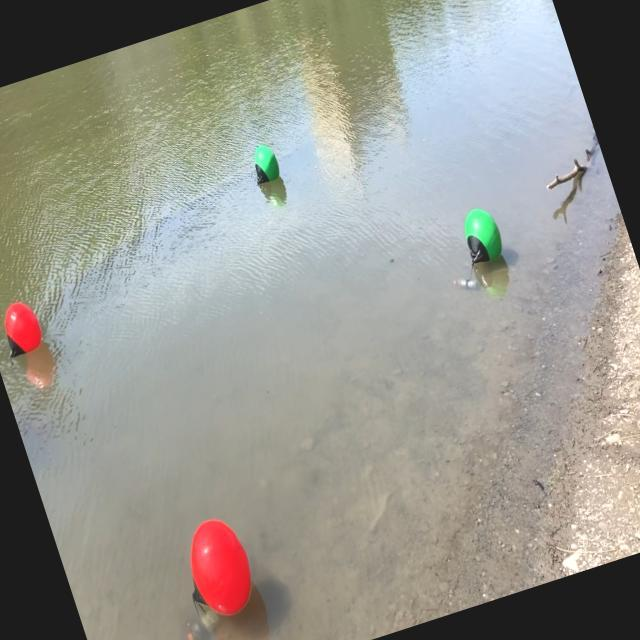buoy: (166, 508, 266, 632), (452, 198, 514, 276), (0, 291, 52, 364), (242, 134, 290, 196)
